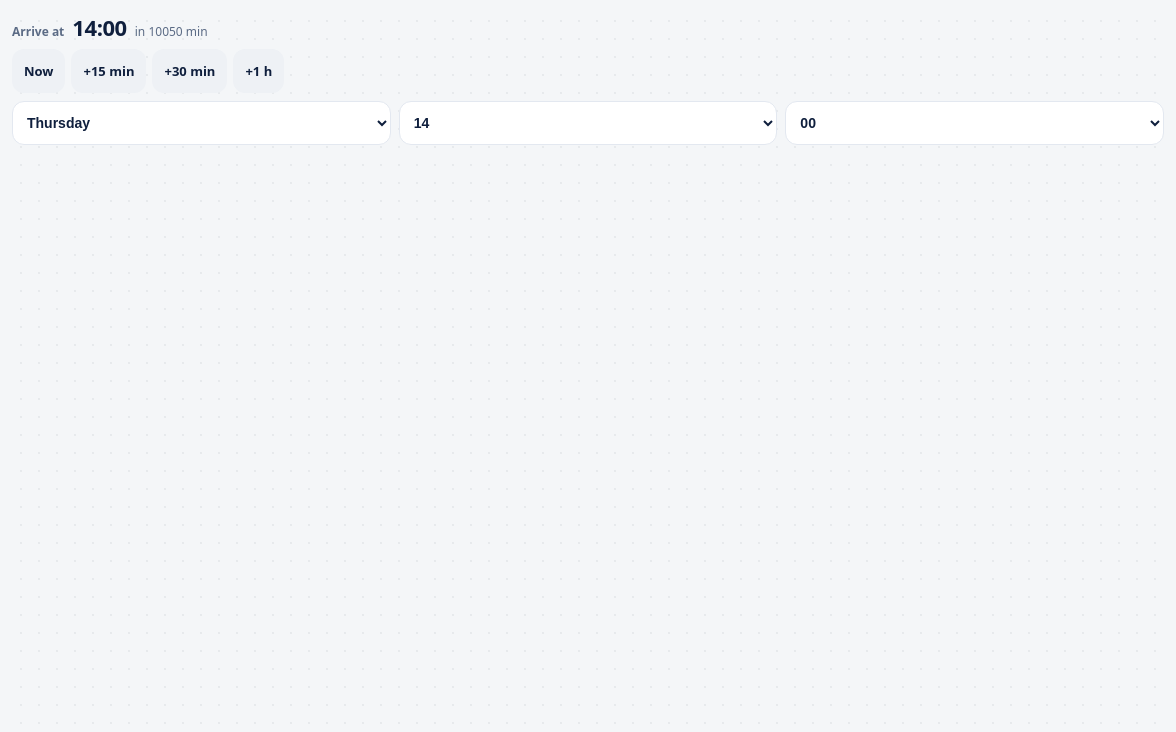
Test: quick chips › stays live while it can still move the time at all, not only the whole way
Step 1. Click the button "+1 h" → (259, 71), box [233, 49, 284, 93]
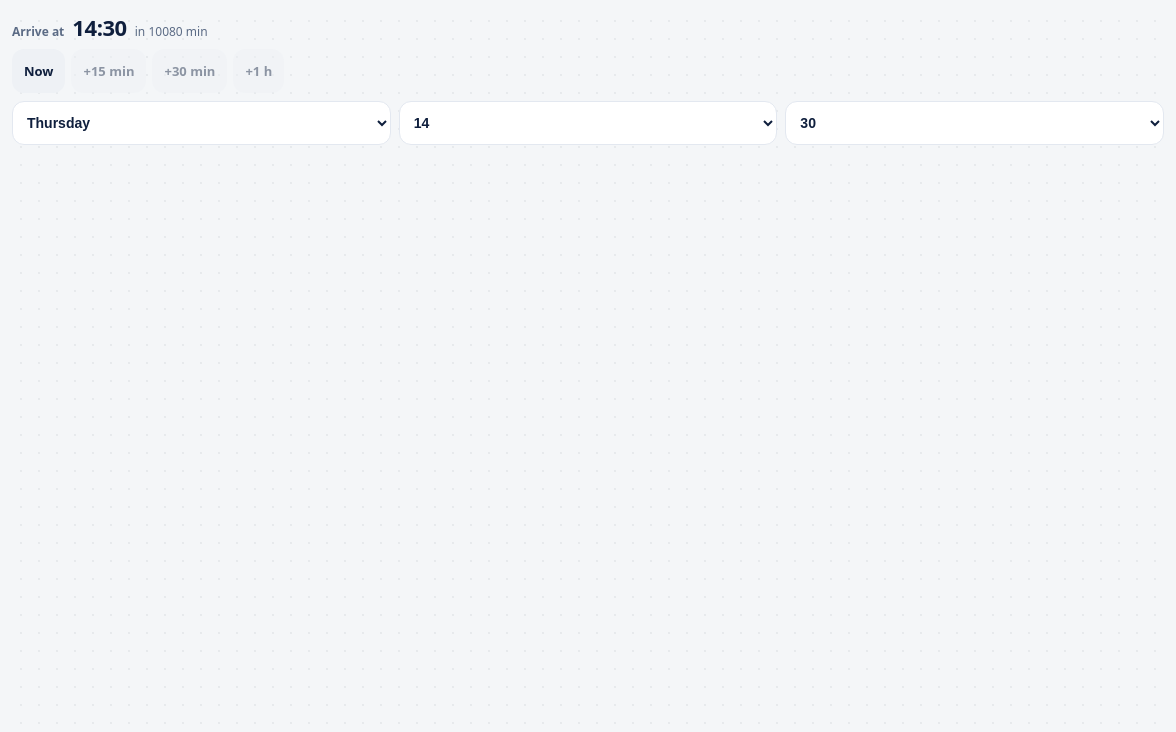
Now the text with test id "arrival-time" reads "14:30", box [72, 12, 127, 42]
Now the button "+1 h" is disabled, box [233, 49, 284, 93]
Now the button "+15 min" is disabled, box [72, 49, 146, 93]
